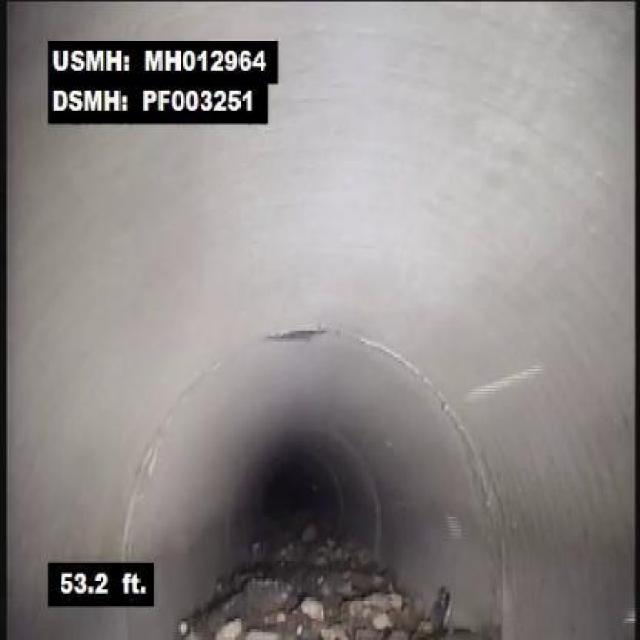Obstacle: (183, 528, 452, 638)
